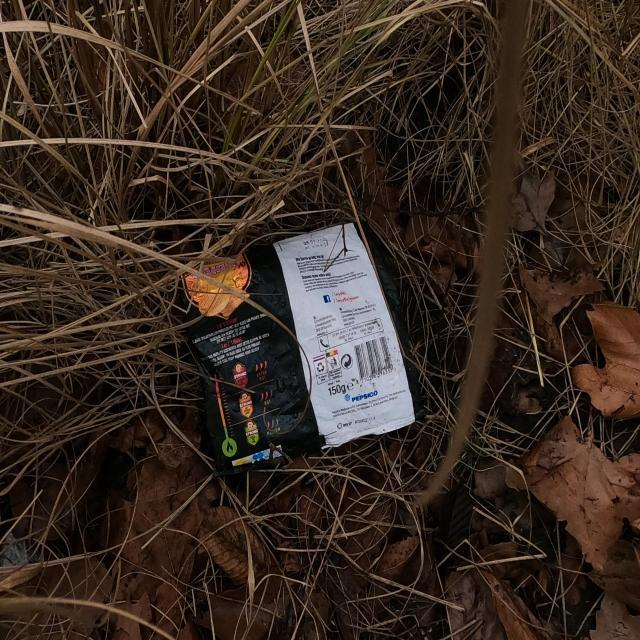Plastic: (171, 226, 449, 466)
